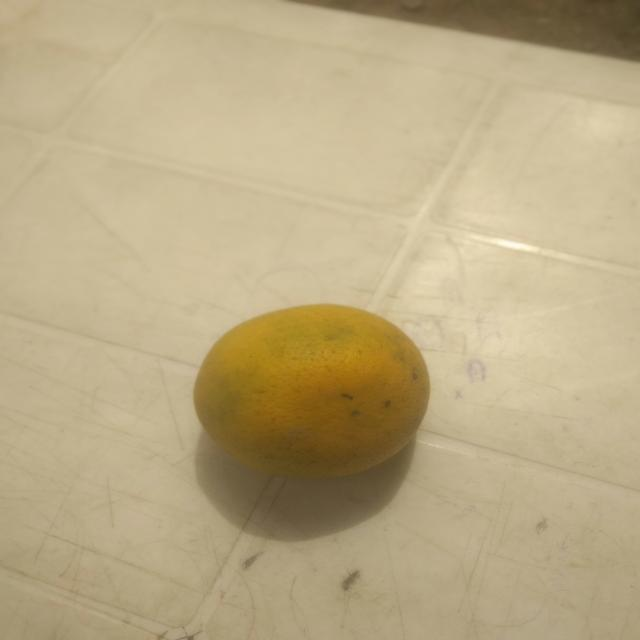Ripe orange: (170, 288, 439, 506)
